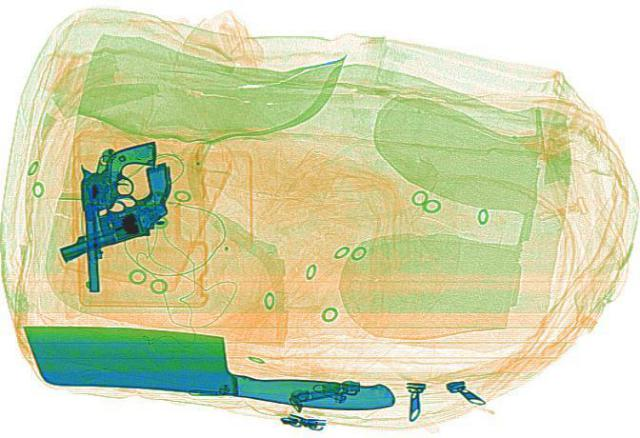Gun: (21, 160, 208, 260), (74, 138, 168, 290)
Knife: (15, 321, 399, 408)
